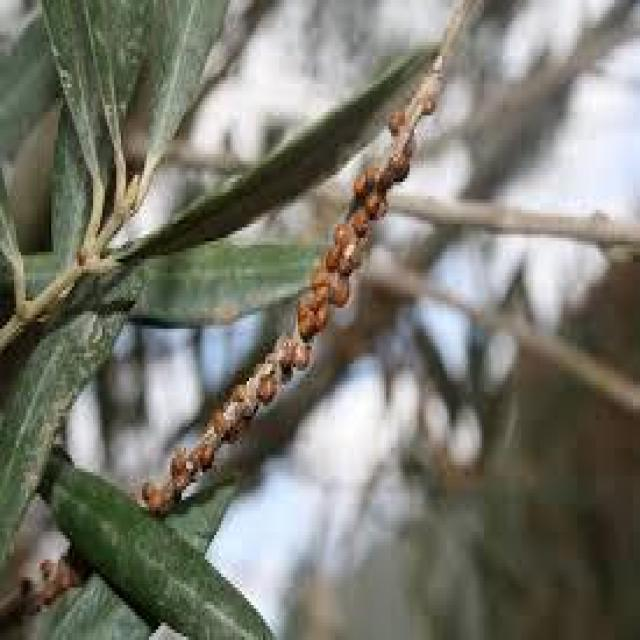Black Scale: (137, 49, 442, 514)
